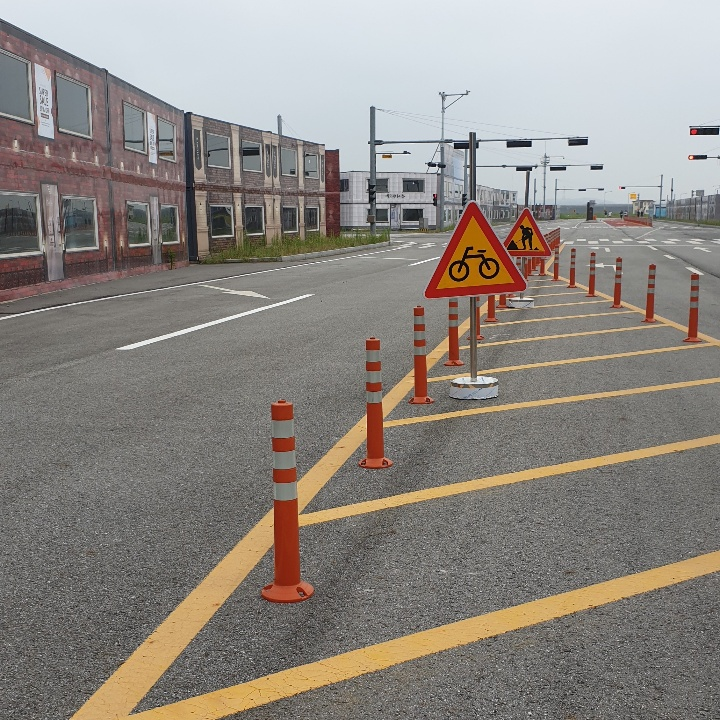bicycle: (423, 200, 527, 298)
const: (508, 208, 546, 253)
